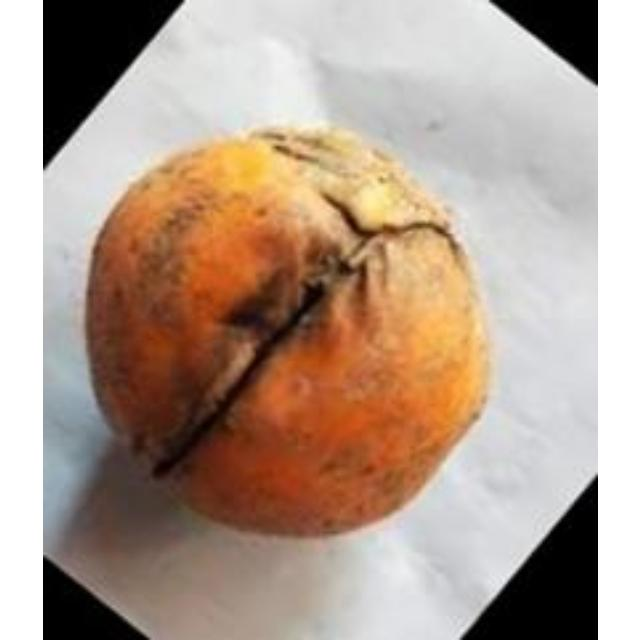damaged: (84, 127, 485, 534)
